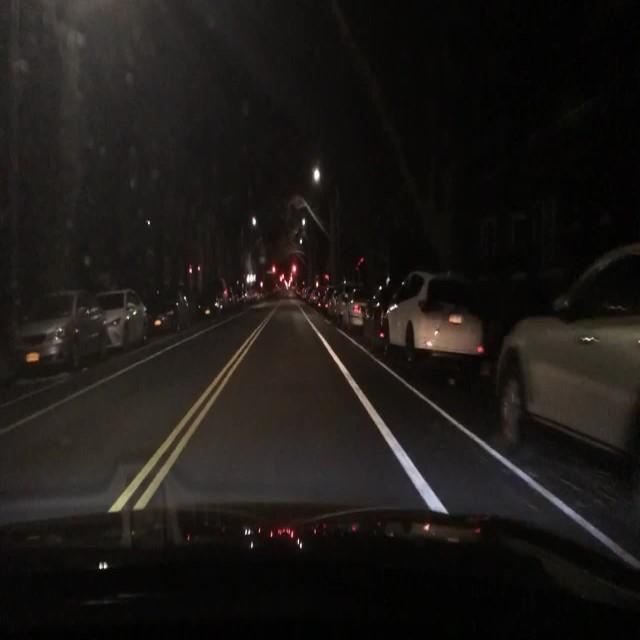normal: (496, 237, 639, 472), (384, 275, 492, 385), (93, 287, 153, 348)
